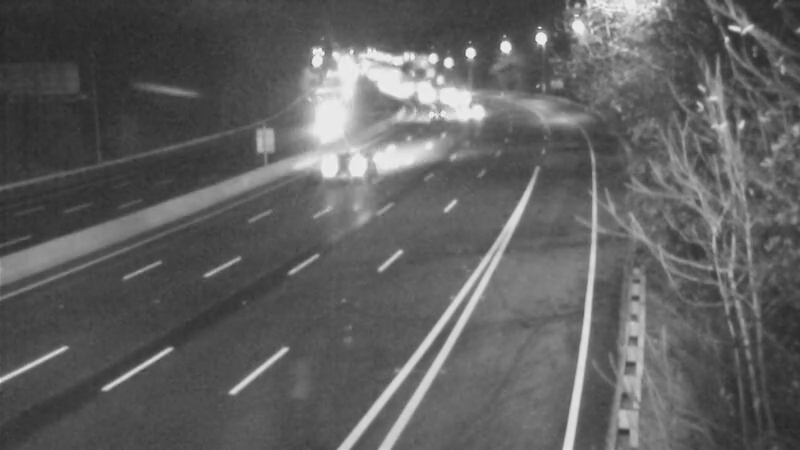vehicle: (303, 123, 383, 203), (398, 62, 448, 112), (380, 70, 430, 120), (400, 74, 450, 124), (429, 72, 479, 122), (450, 87, 500, 137), (410, 87, 460, 137), (296, 95, 346, 145)
